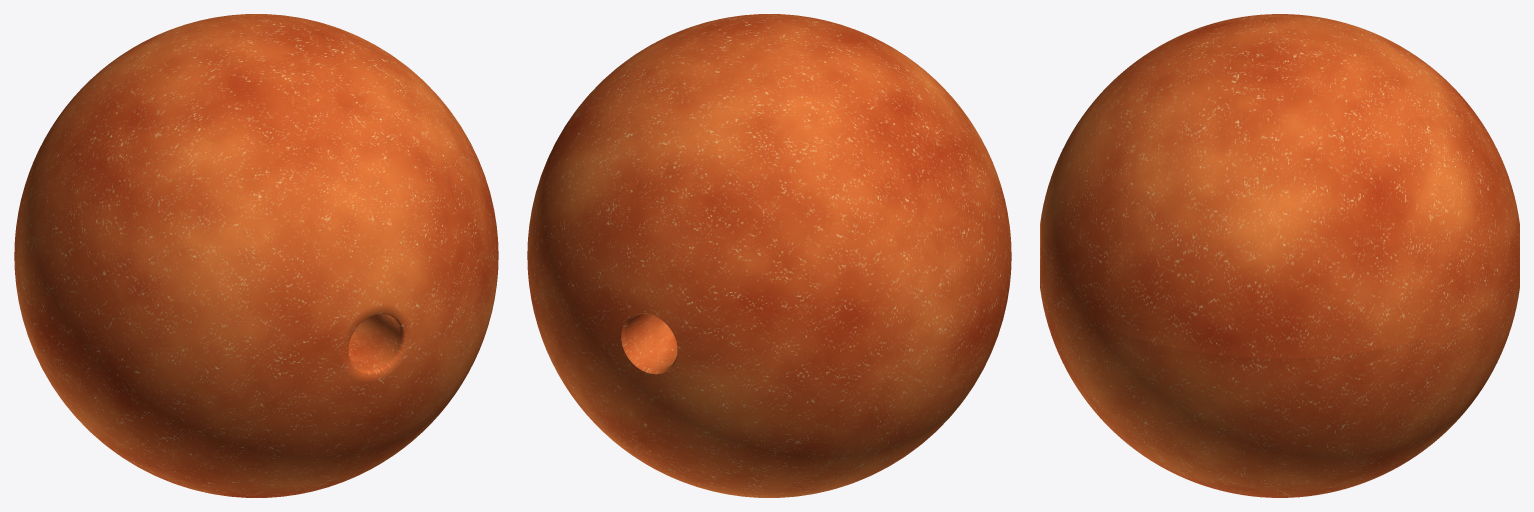
The model's file is sunstone.glb.
The picture shows the model from 3 angles, left to right: view 1: azimuth 30°, elevation 25°; view 2: azimuth 150°, elevation 25°; view 3: azimuth 270°, elevation 25°; orthographic projection.
Parts seen in each view (by area): view 1: sunstone.001; view 2: sunstone.001; view 3: sunstone.001.
Boxes of the visible parts, x1,y1,x2,y2 form: sunstone.001: (14,14,498,497); sunstone.001: (527,14,1011,497); sunstone.001: (1040,14,1519,497).
Size of the model in its own units: 0.008 by 0.008 by 0.00793.
Materials: 1 (1 with a texture image).
